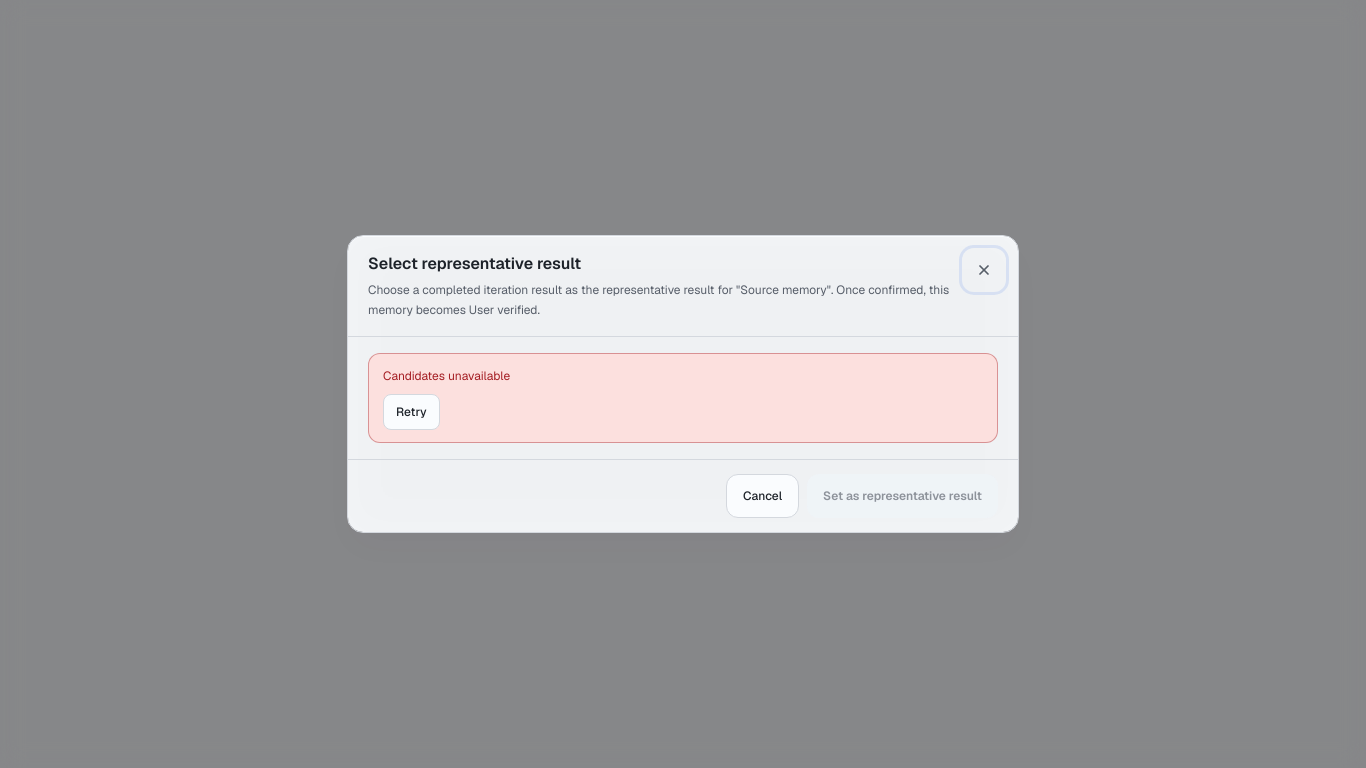
Test: RepresentativeResultSelector — plan-06 工作台代表结果确认入口 › 首屏候选读取失败：真实错误位 + 重试恢复（不伪造候选）
The width and height of the screenshot is (1366, 768).
expect the text "Candidates unavailable" is shown: met, box [383,368,510,384]
Click the button "Retry".
click(411, 412)  # box [383,394,440,430]
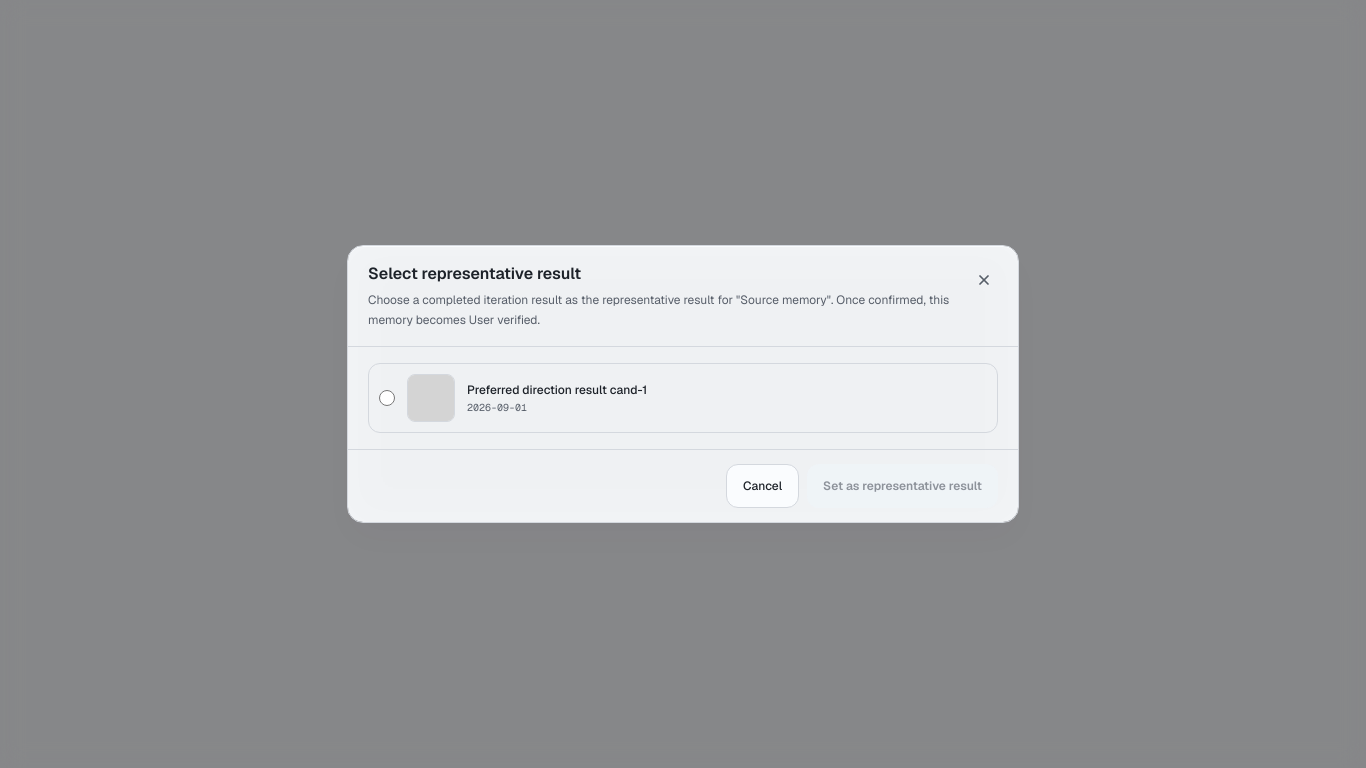
expect the radio button labelled "Preferred direction result cand-1 2026-09-01" is shown: met, box [379,390,395,406]
